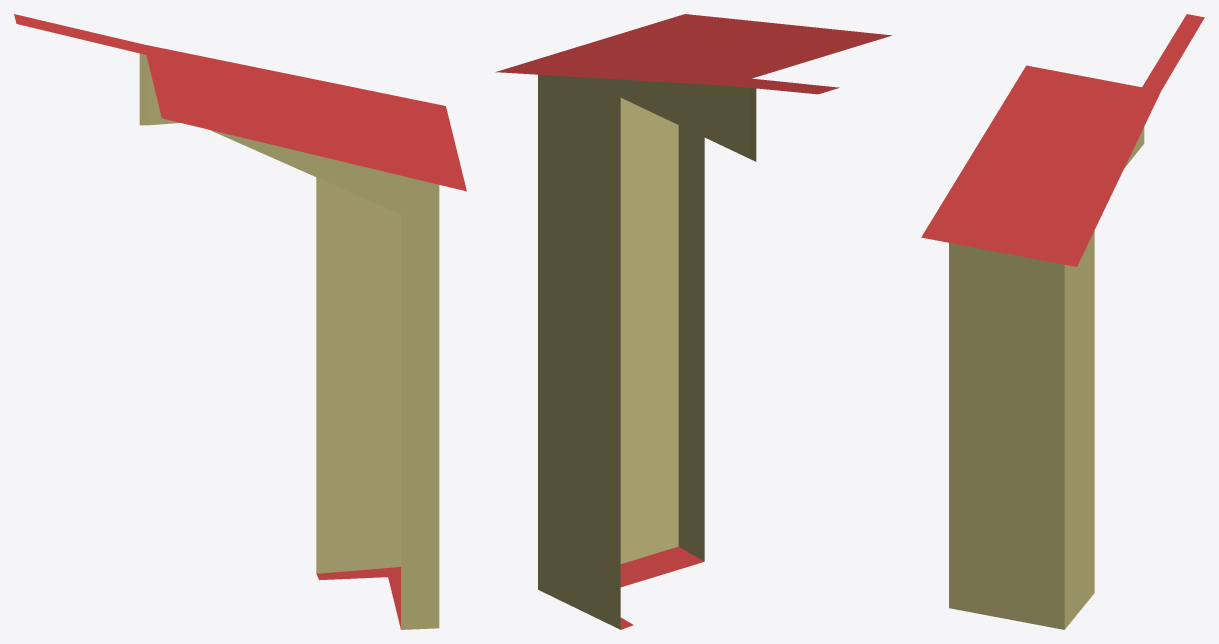
3 views of the same model, side by side, from view 1: azimuth 30°, elevation 25°; view 2: azimuth 150°, elevation 25°; view 3: azimuth 270°, elevation 25° (orthographic). The views are drawn at different scales.
Size of the model in its own units: 8.36 by 6.71 by 12.5.
